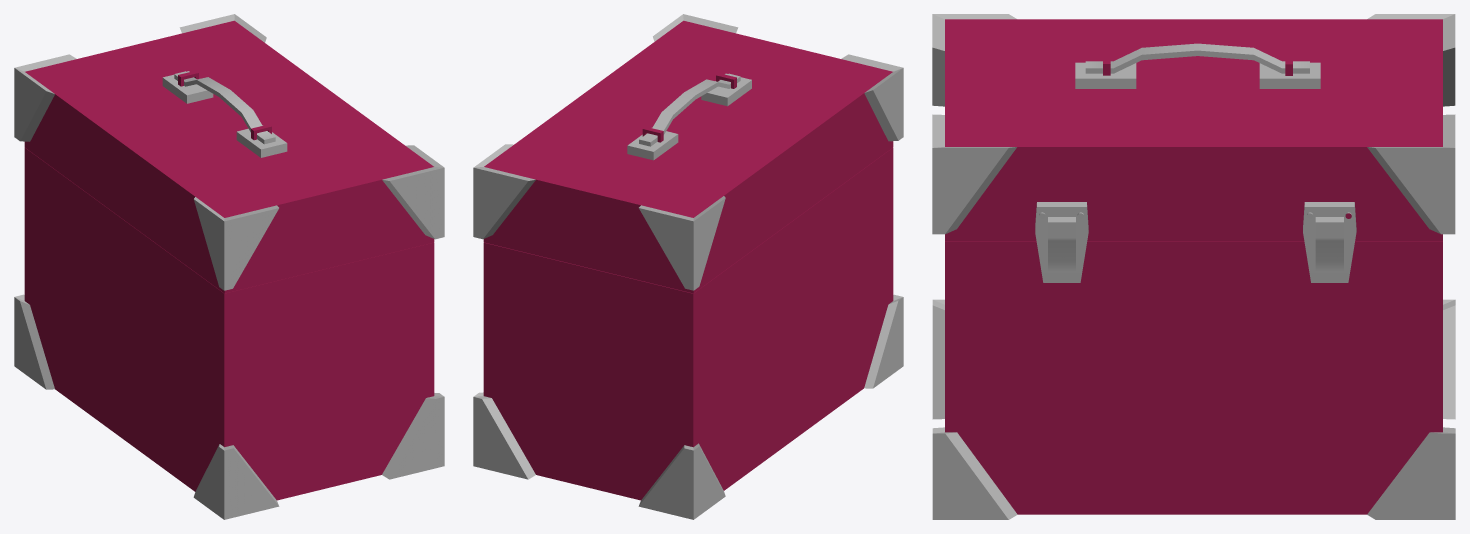
Rendered from STUDIOTV_Props_Boite.fbx.
3 renders of one model, left to right at view 1: azimuth 30°, elevation 25°; view 2: azimuth 150°, elevation 25°; view 3: azimuth 270°, elevation 25°, orthographic. The views are drawn at different scales.
Visible parts, largest first — view 1: polySurface21; view 2: polySurface21; view 3: polySurface21.
Part boxes in pixels (bbox=[...]): polySurface21: bbox=[14, 14, 444, 519]; polySurface21: bbox=[473, 14, 903, 519]; polySurface21: bbox=[932, 14, 1455, 519].
Size of the model in its own units: 52.34 by 69.71 by 81.8.
